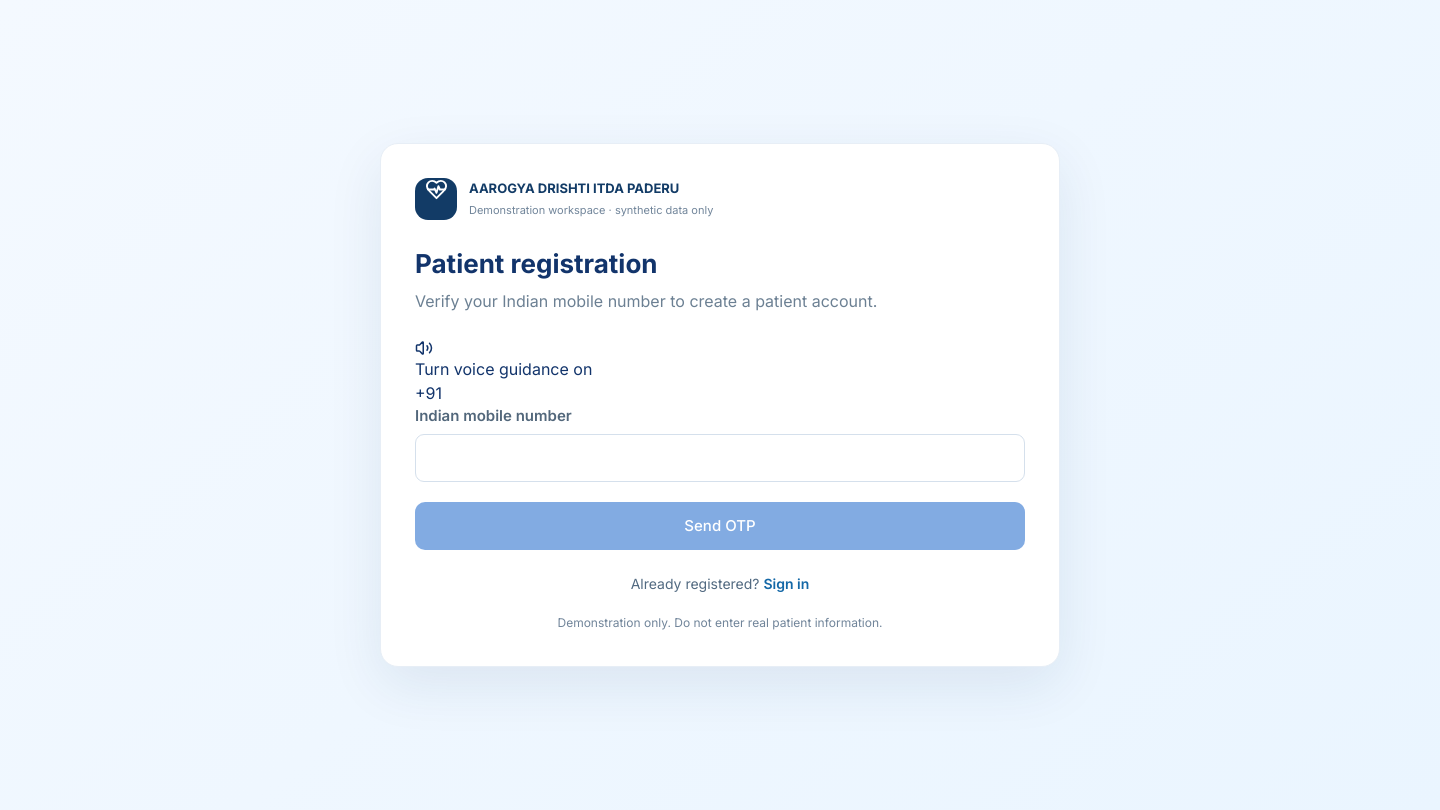
Test: patient OTP registration › sends an already registered mobile to OTP sign-in without requesting patient details
The image size is (1440, 810).
Type "9876543210" into the field labelled "Indian mobile number" at (720, 458), box x1=415 y1=434 x2=1025 y2=482
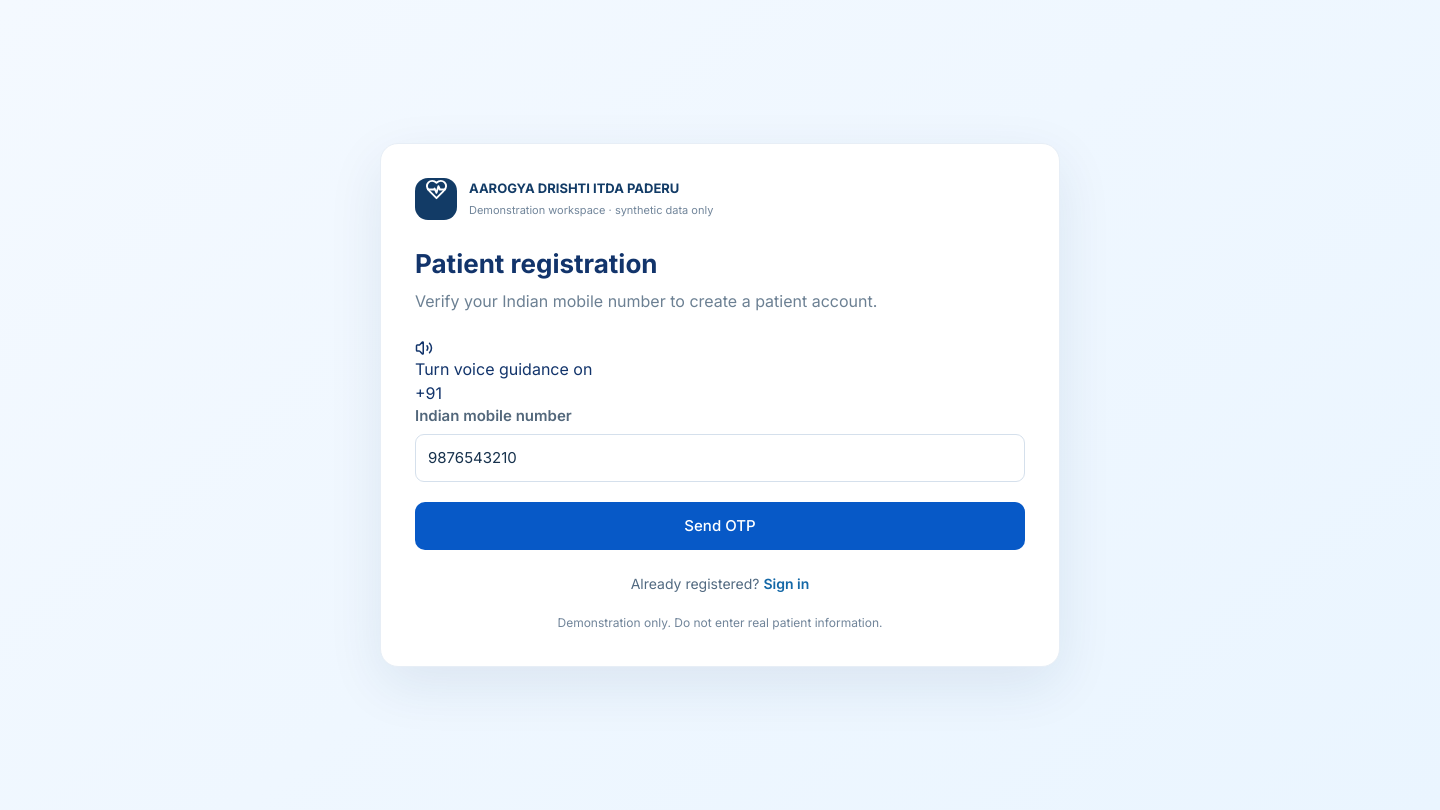
Click the button "Send OTP" at (720, 526), box x1=415 y1=502 x2=1025 y2=550
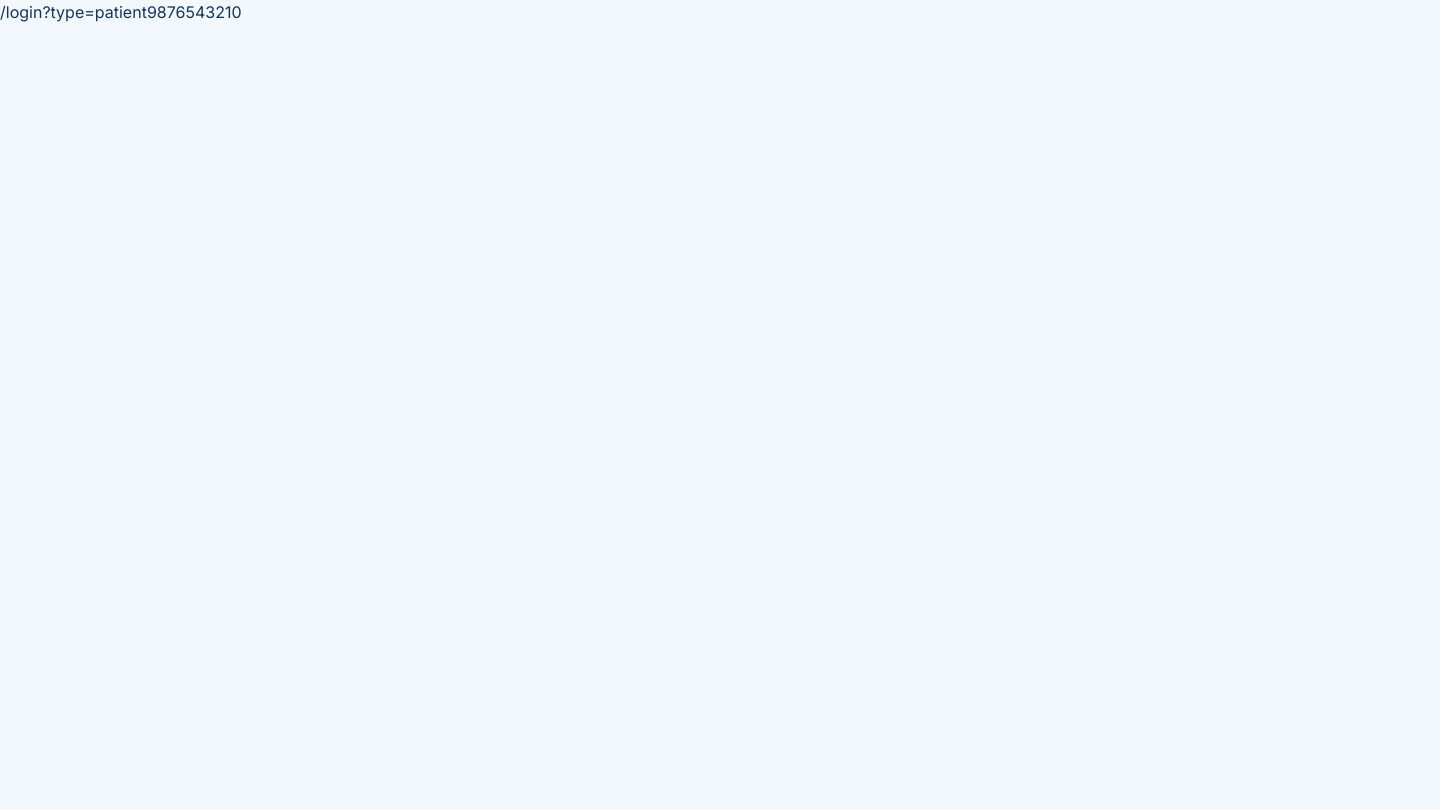
expect the text with test id "current-path" reads "/login?type=patient": met, box x1=0 y1=2 x2=147 y2=22
expect the text with test id "handoff-mobile" reads "9876543210": met, box x1=147 y1=2 x2=242 y2=22
